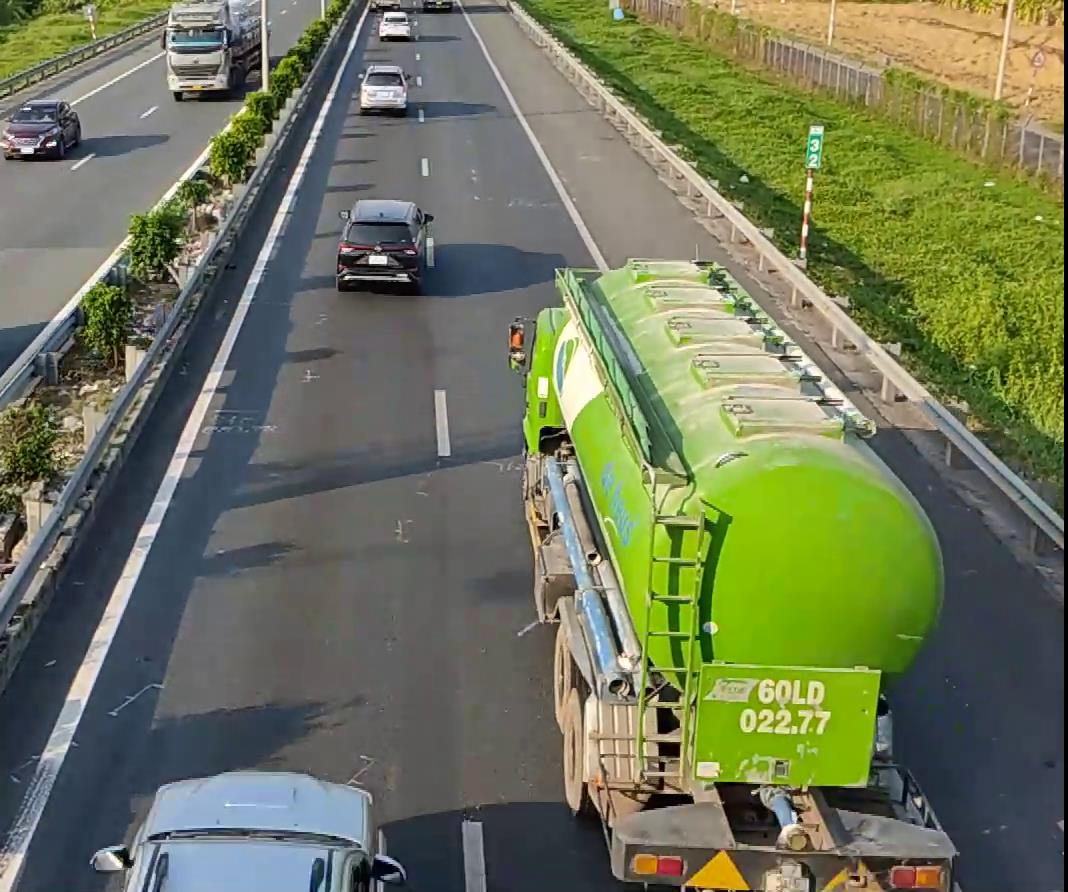car: (333, 199, 435, 292), (0, 97, 81, 161)
container: (512, 253, 950, 892)
